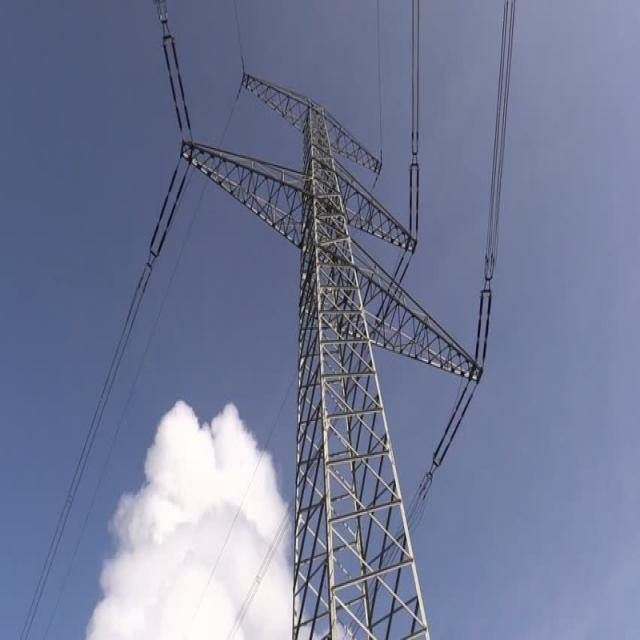non-critical vegetation: (201, 61, 462, 632)
